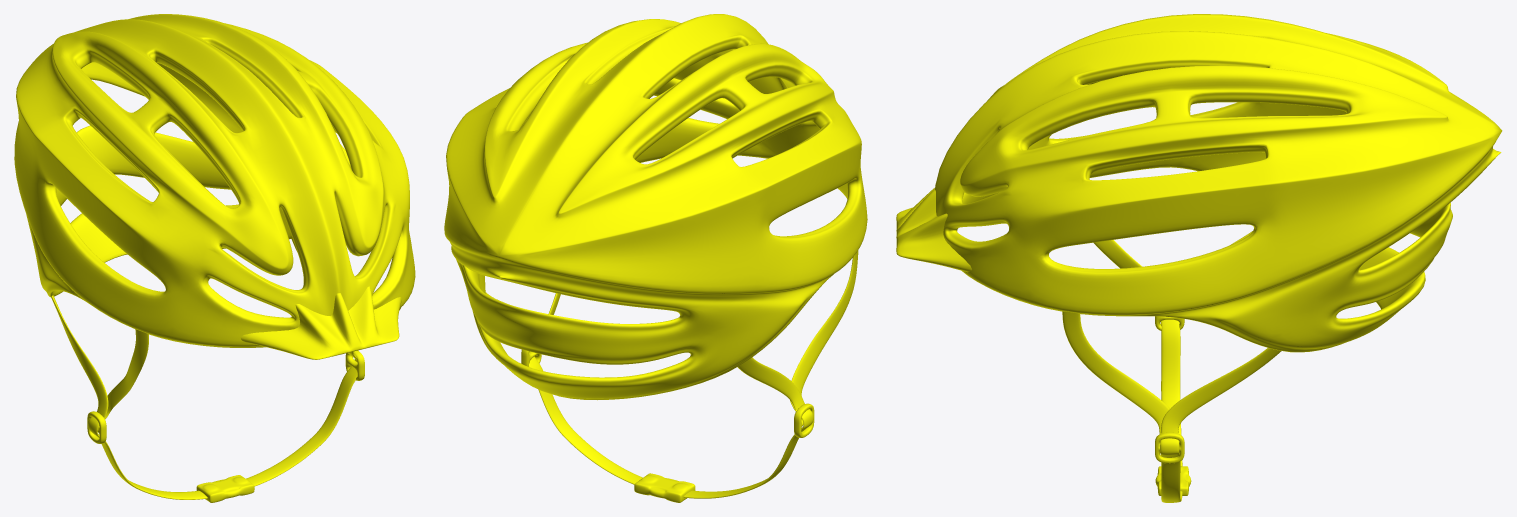
The model's file is casco.fbx.
3 renders of one model, left to right at view 1: azimuth 30°, elevation 25°; view 2: azimuth 150°, elevation 25°; view 3: azimuth 270°, elevation 25°, orthographic. The views are drawn at different scales.
Parts seen in each view (by area): view 1: helmet:_helmet_sg; view 2: helmet:_helmet_sg; view 3: helmet:_helmet_sg.
Part boxes in pixels (left/top/right/bottom): helmet:_helmet_sg: left=14, top=14, right=415, bottom=502; helmet:_helmet_sg: left=444, top=14, right=867, bottom=502; helmet:_helmet_sg: left=896, top=14, right=1502, bottom=502.
Size of the model in its own units: 2.3 by 3.13 by 3.77.
